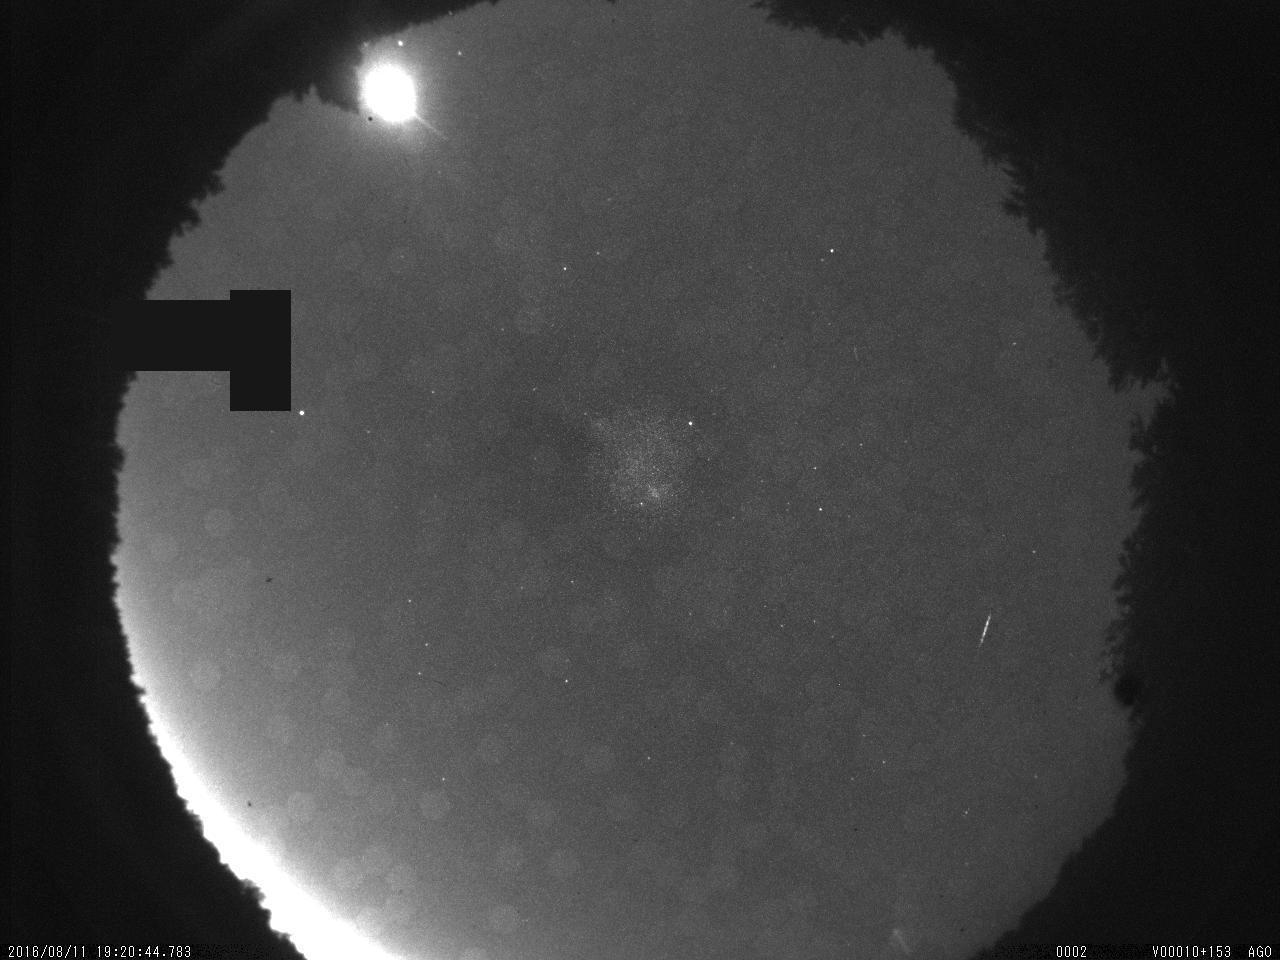Meteor: (972, 606, 996, 656)
